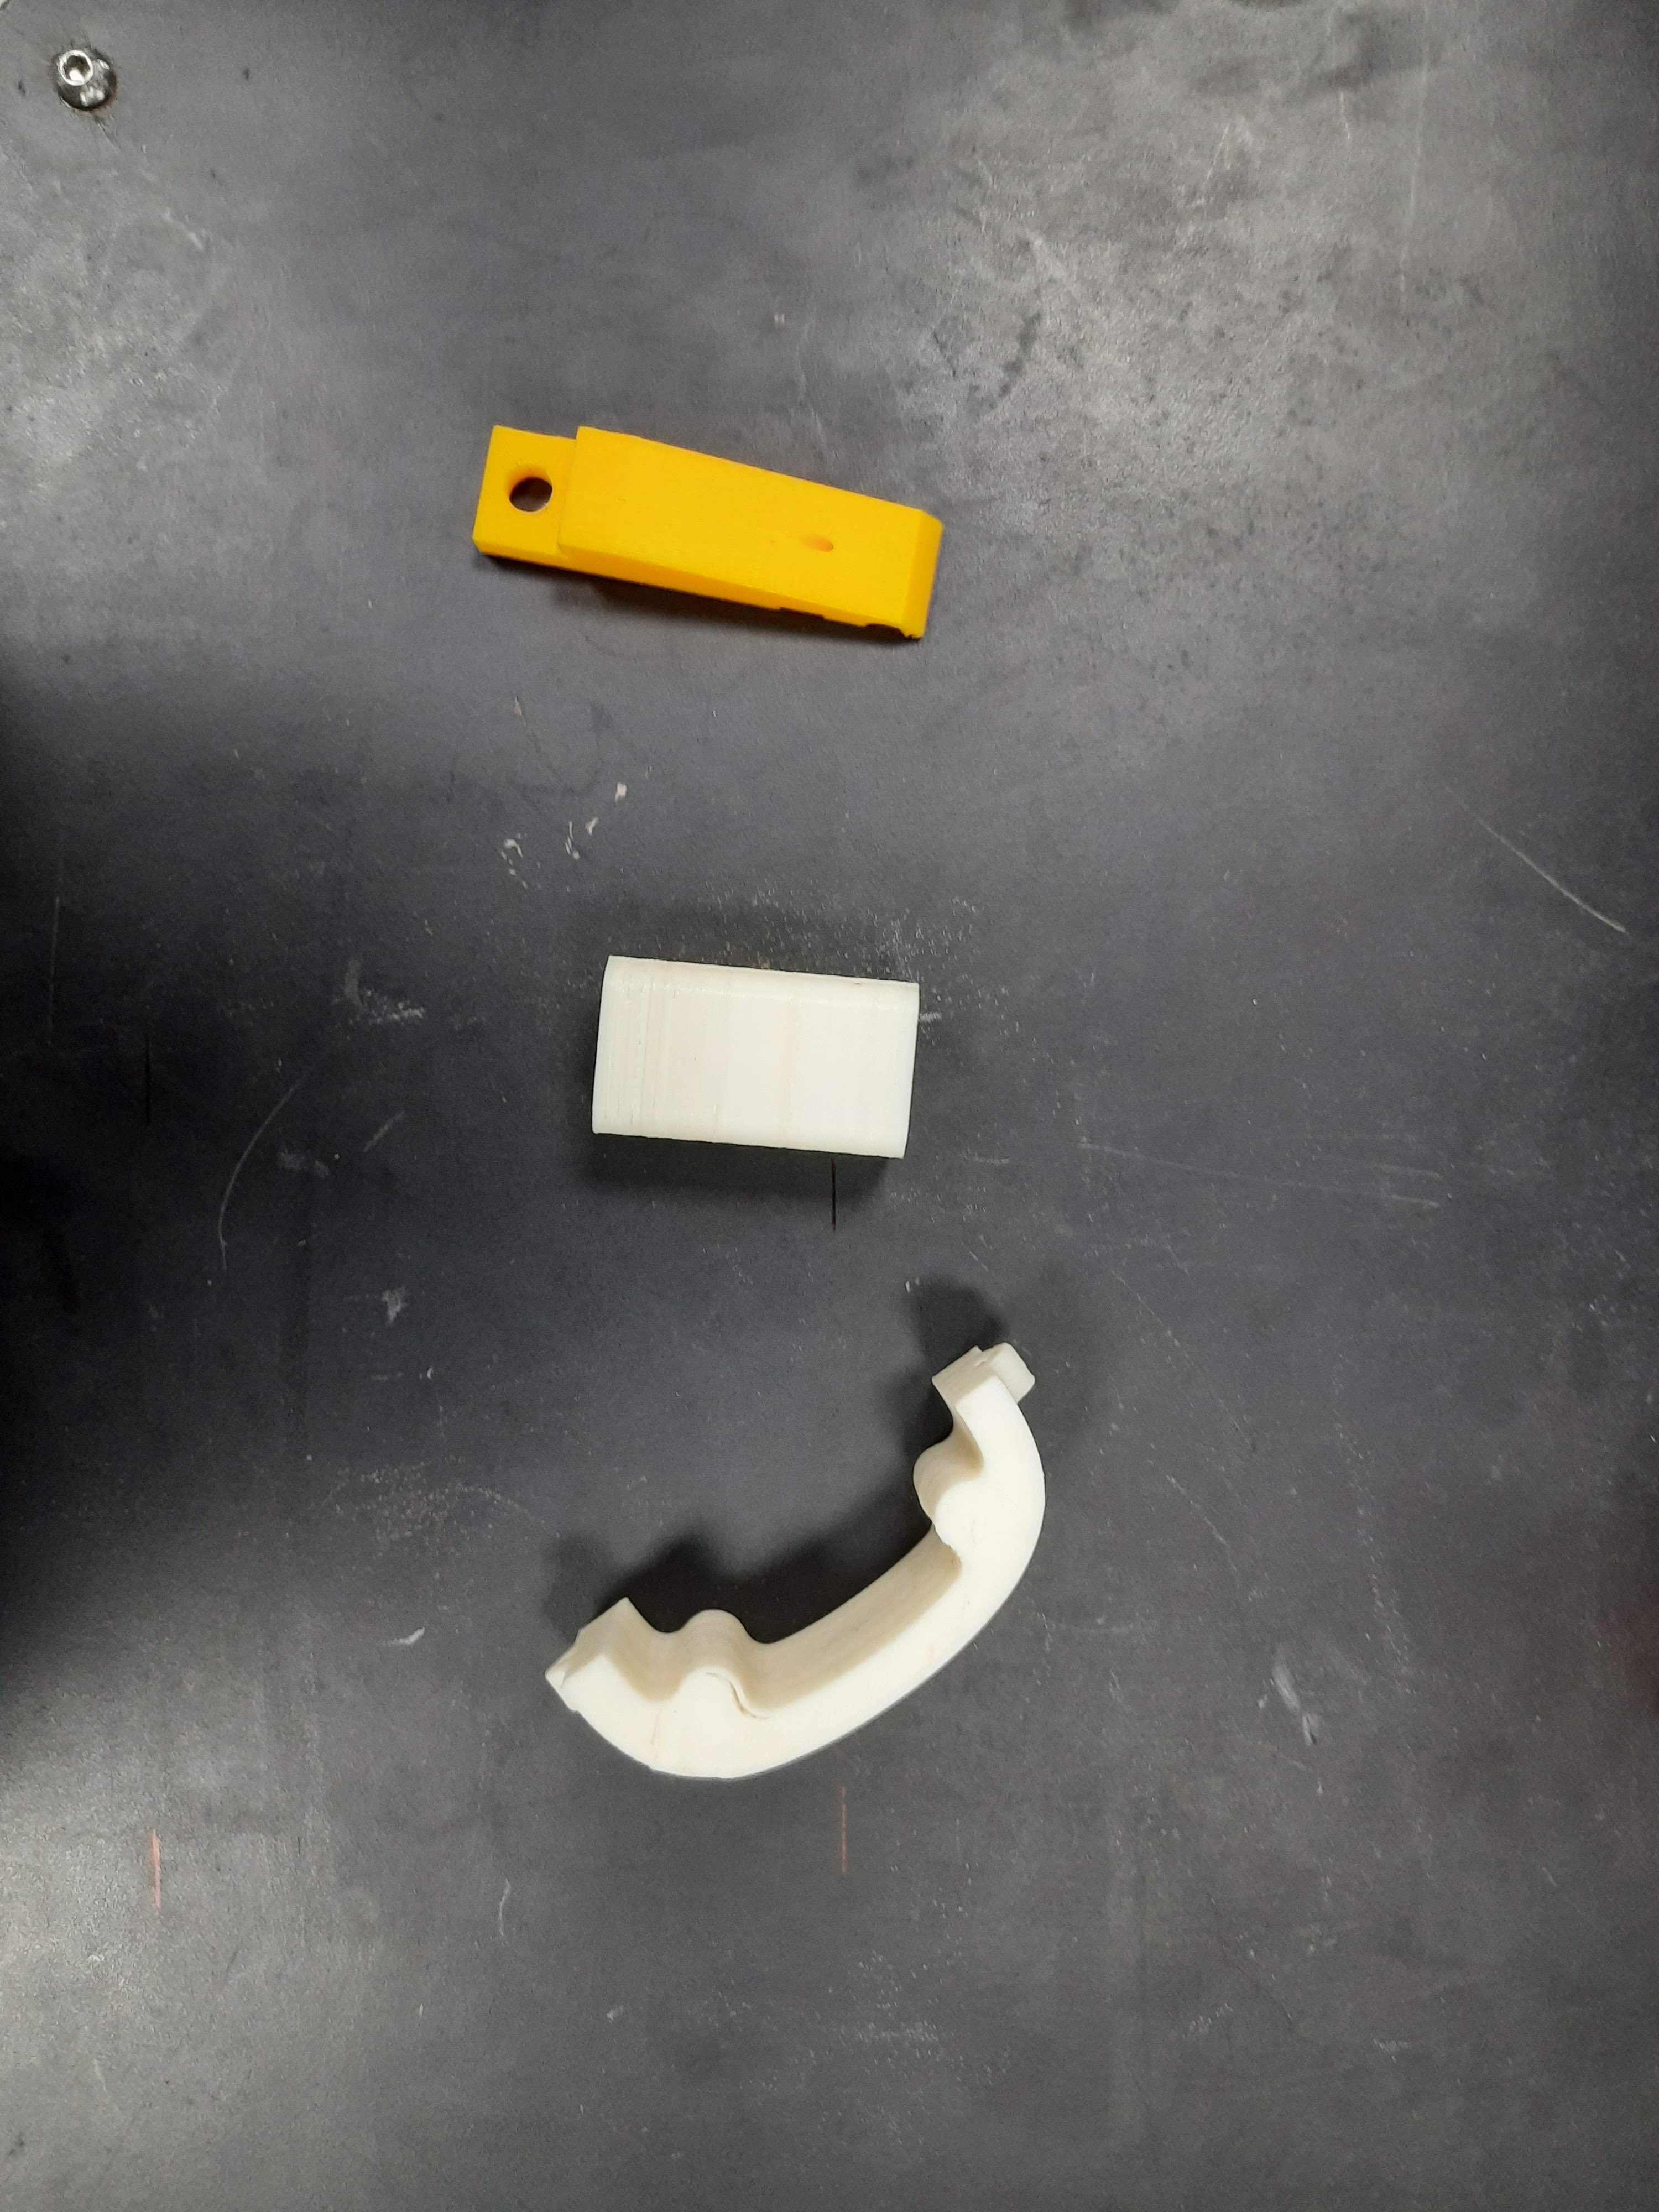ARC: (521, 1317, 1149, 1865)
CUBE: (591, 957, 916, 1149)
YELLOW: (466, 410, 948, 641)
